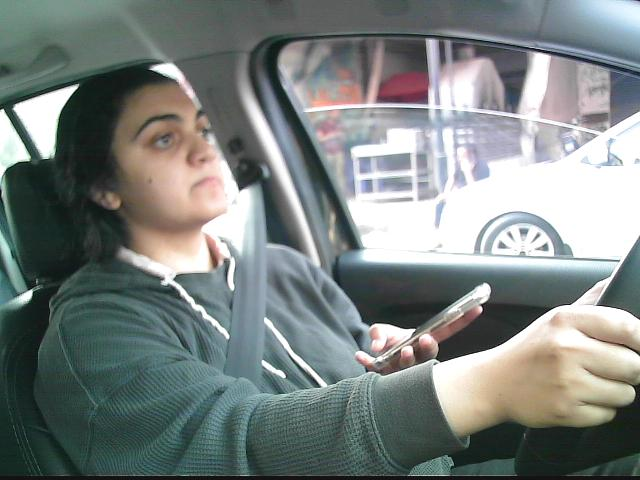PhoneUse: (369, 281, 494, 372)
